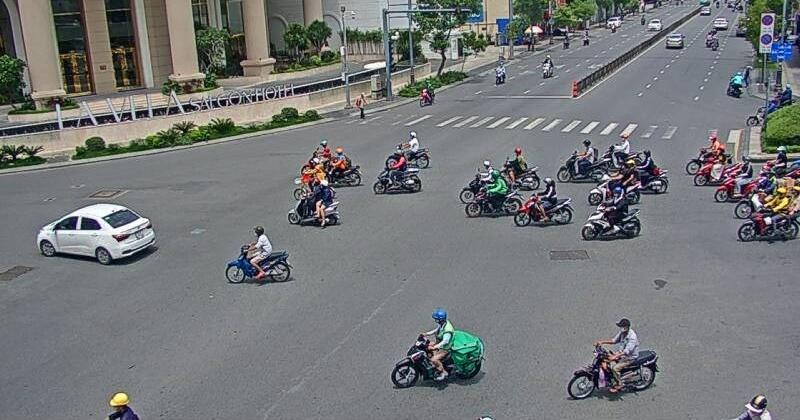xe hoi: (34, 199, 153, 266)
xe may: (567, 316, 659, 404), (390, 308, 485, 392), (223, 226, 290, 282), (735, 186, 800, 240), (581, 186, 641, 240), (513, 177, 573, 227), (462, 170, 520, 218), (370, 150, 423, 196), (556, 137, 607, 183), (288, 180, 335, 226)
